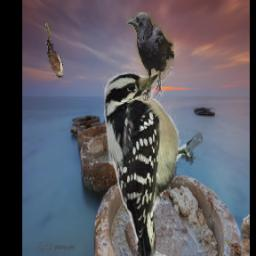Crow: (126, 12, 174, 101)
Cuckoo: (45, 22, 63, 78)
Woodpecker: (101, 67, 203, 256)
